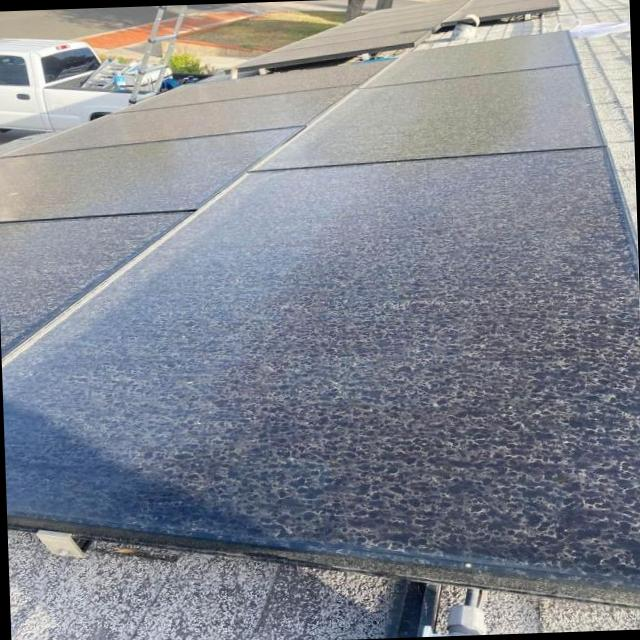faulty: (2, 149, 640, 585), (252, 61, 594, 171), (4, 128, 301, 220), (0, 217, 190, 352), (32, 86, 343, 154)
